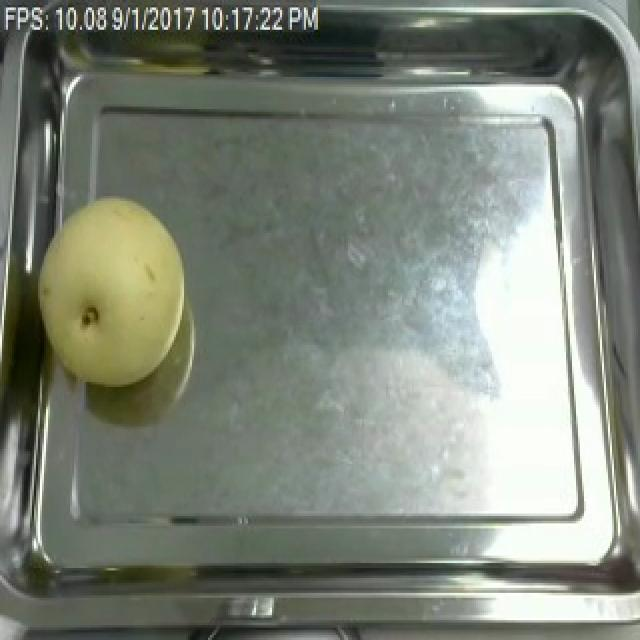Fruit: (24, 183, 198, 397)
